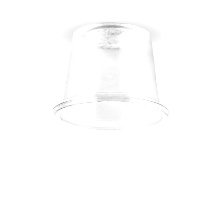glass: (39, 18, 171, 139)
